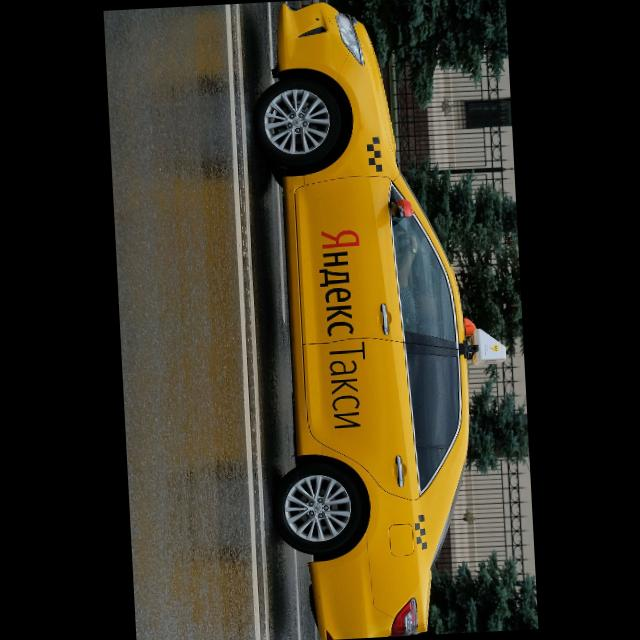taxi: (246, 1, 521, 640)
